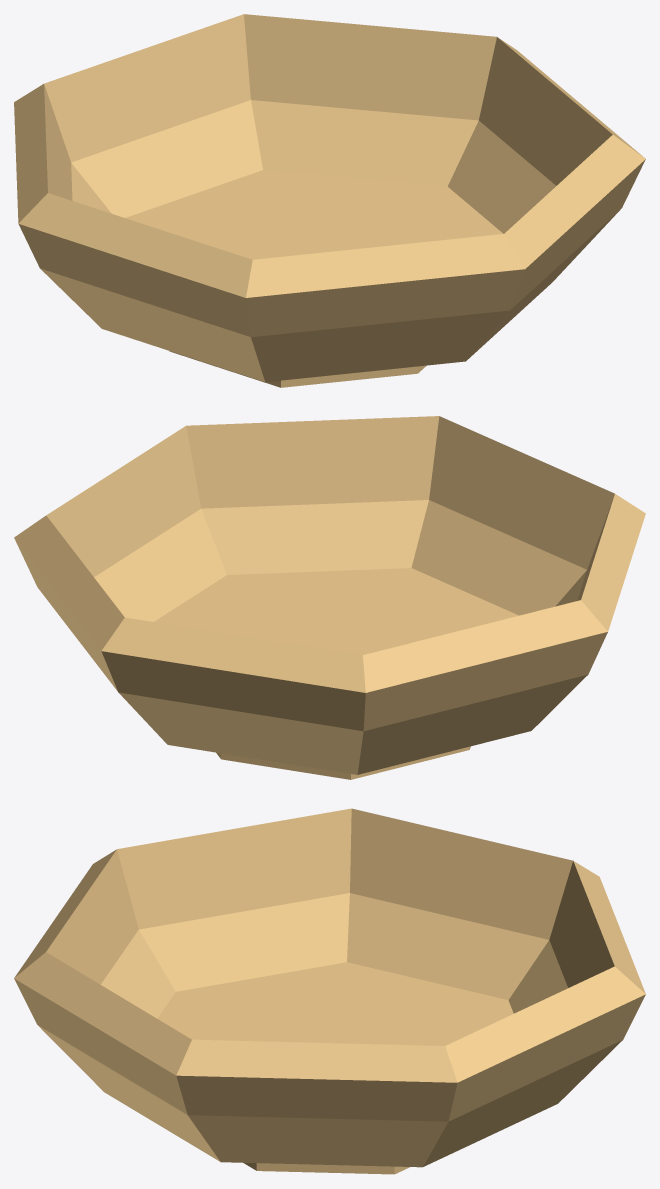
File: simple-wooden-bowl-by-garrett-lefever-4FkXKjJbRTy.glb
3 views of the same model, one above another, from view 1: azimuth 30°, elevation 25°; view 2: azimuth 150°, elevation 25°; view 3: azimuth 270°, elevation 25° (orthographic). The views are drawn at different scales.
Parts seen in each view (by area): view 1: group1632027377; view 2: group1632027377; view 3: group1632027377.
Part boxes in pixels (x1,y1,x2,y2): group1632027377: (14, 14, 645, 387); group1632027377: (14, 416, 645, 779); group1632027377: (14, 808, 645, 1174).
Size of the model in its own units: 0.2353 by 0.075 by 0.2381.
